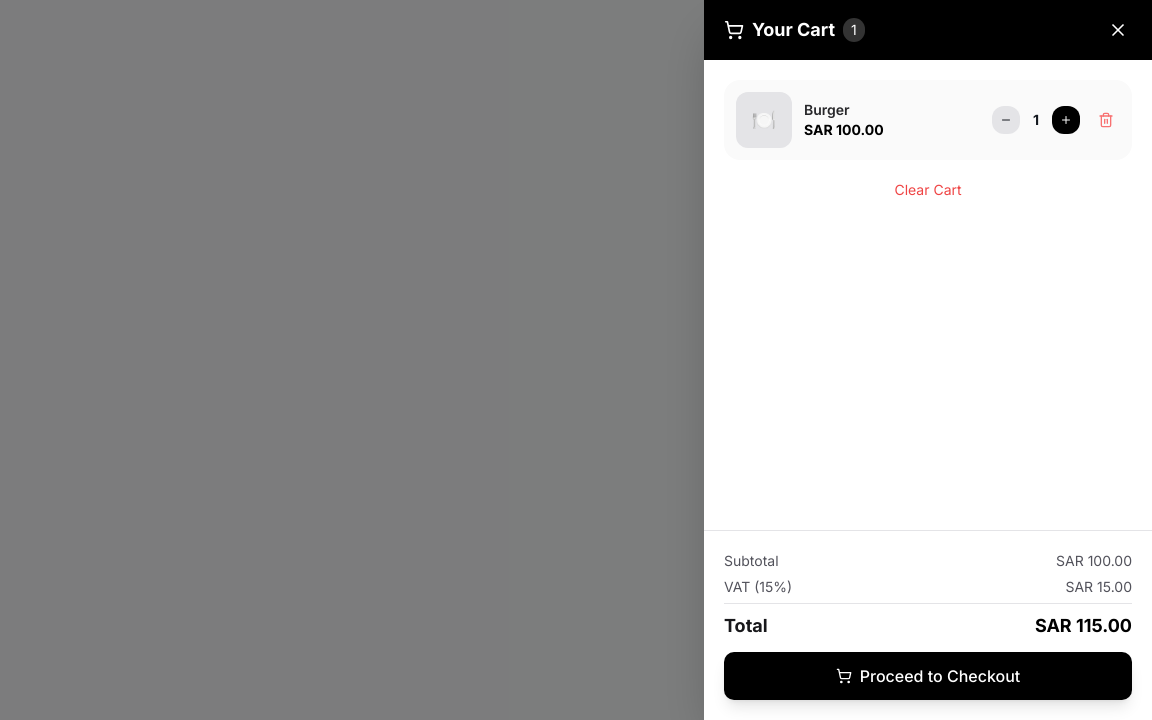
Test: Loyalty Redemption Flow › submits order with redeemed points
Later steps or results of the test are not shown.
Note: Navigate to checkout
Click the button "Proceed to Checkout" at point(928, 676), box [724,652,1132,700]
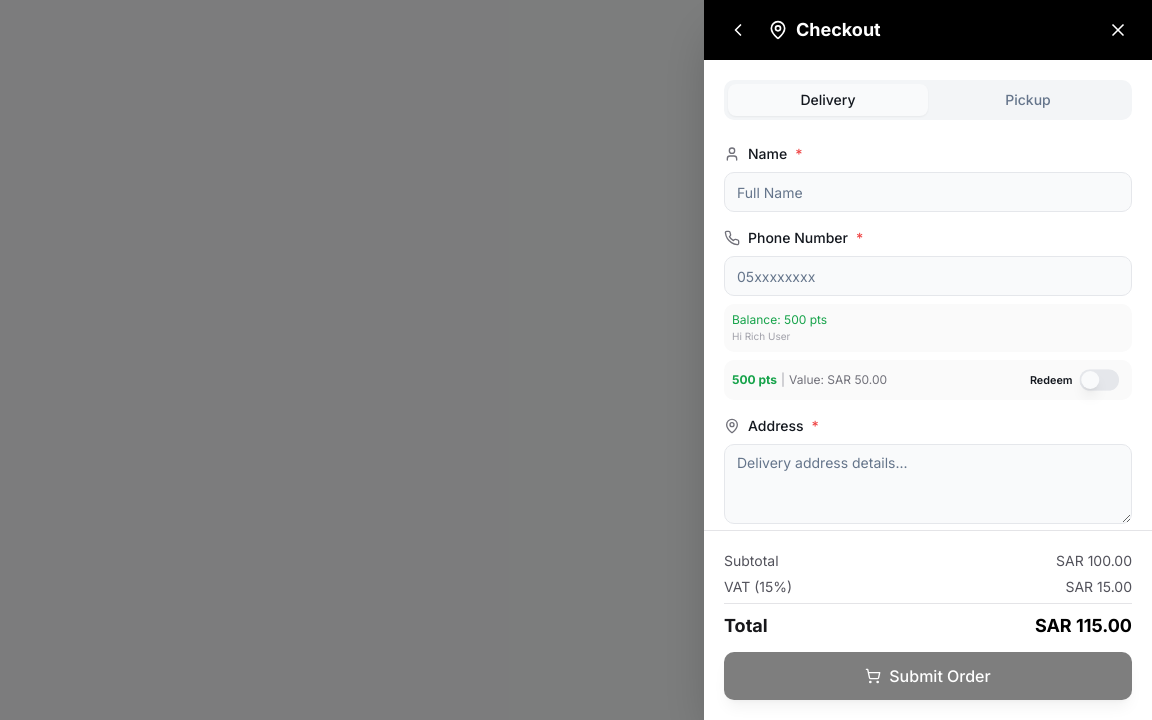
Note: Enter details (required for submit)
Type "John" into the field with placeholder "Full Name" at point(928, 192), box [724,172,1132,212]
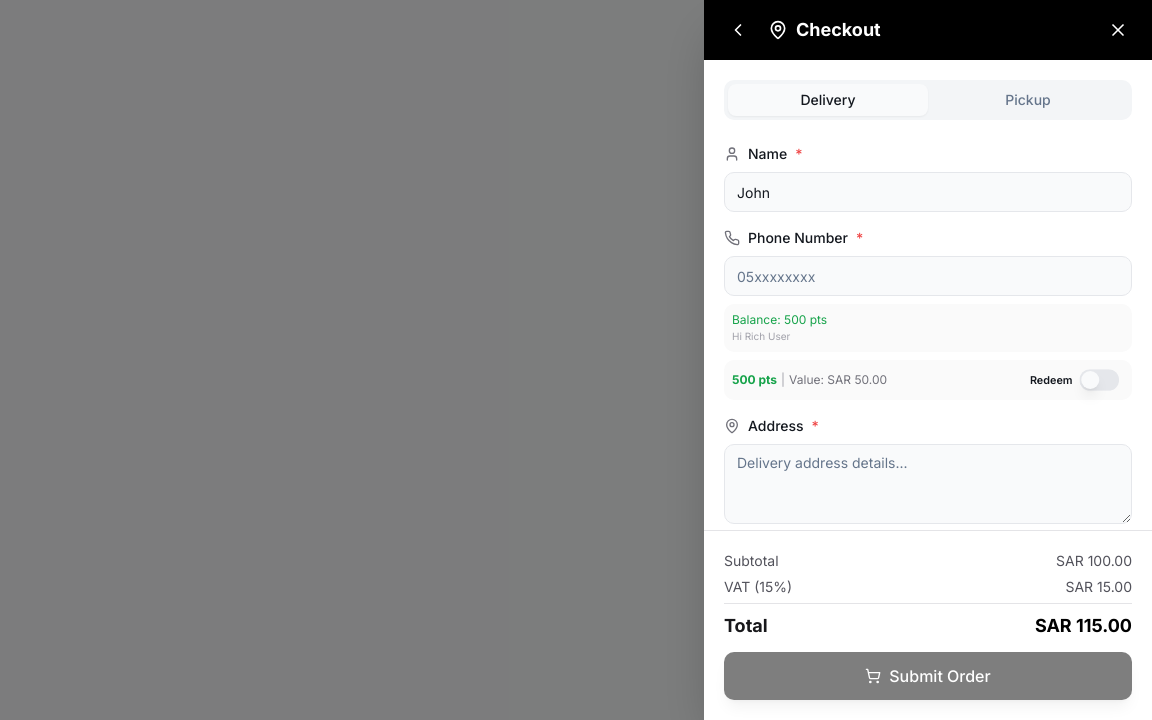
Type "0512345678" into the field with placeholder "05xxxxxxxx" at point(928, 276), box [724,256,1132,296]
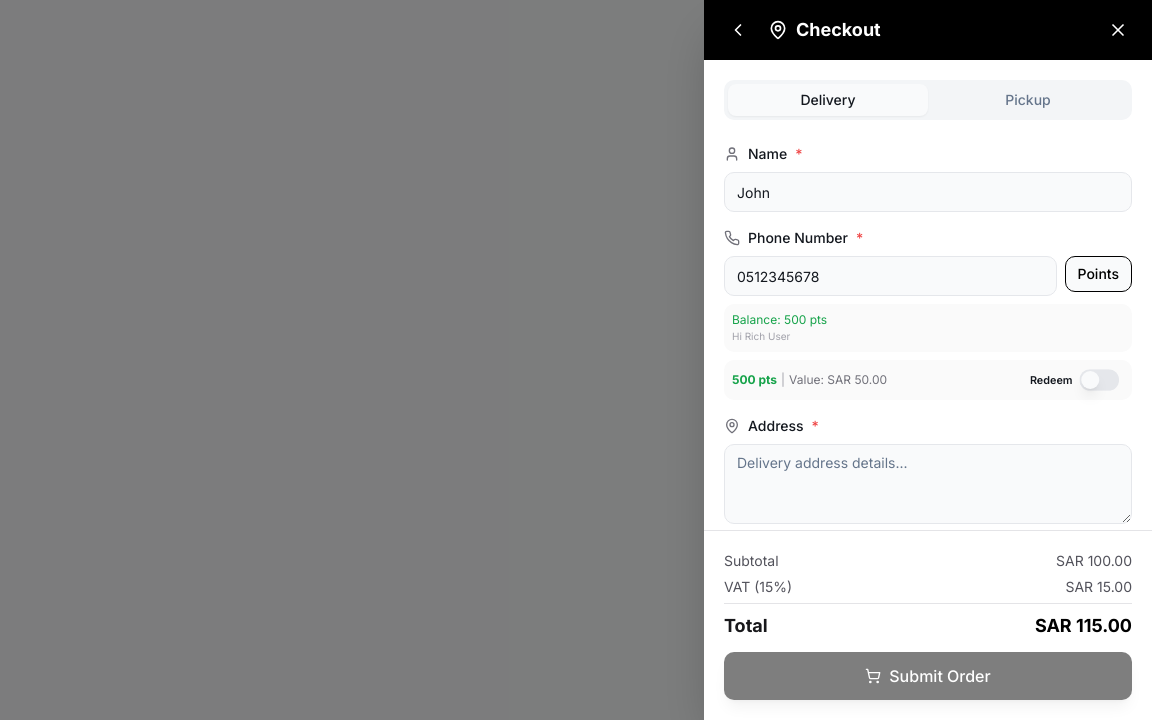
Type "Home" into the text box with placeholder "Delivery address details..." at point(928, 484), box [724,444,1132,524]
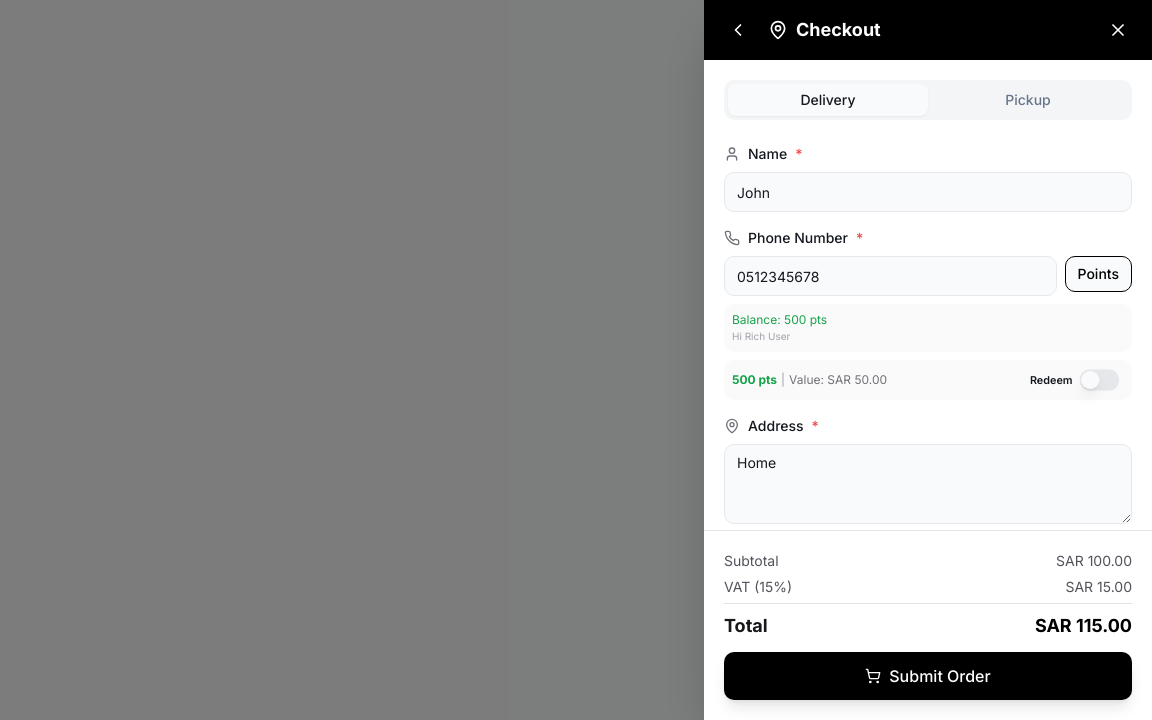
Result: the text "Balance: 500 pts Hi Rich User" is shown at [732,312,827,344]
Note: Enable Redeem
Click the switch at point(1099, 380), box [1079,369,1119,391]
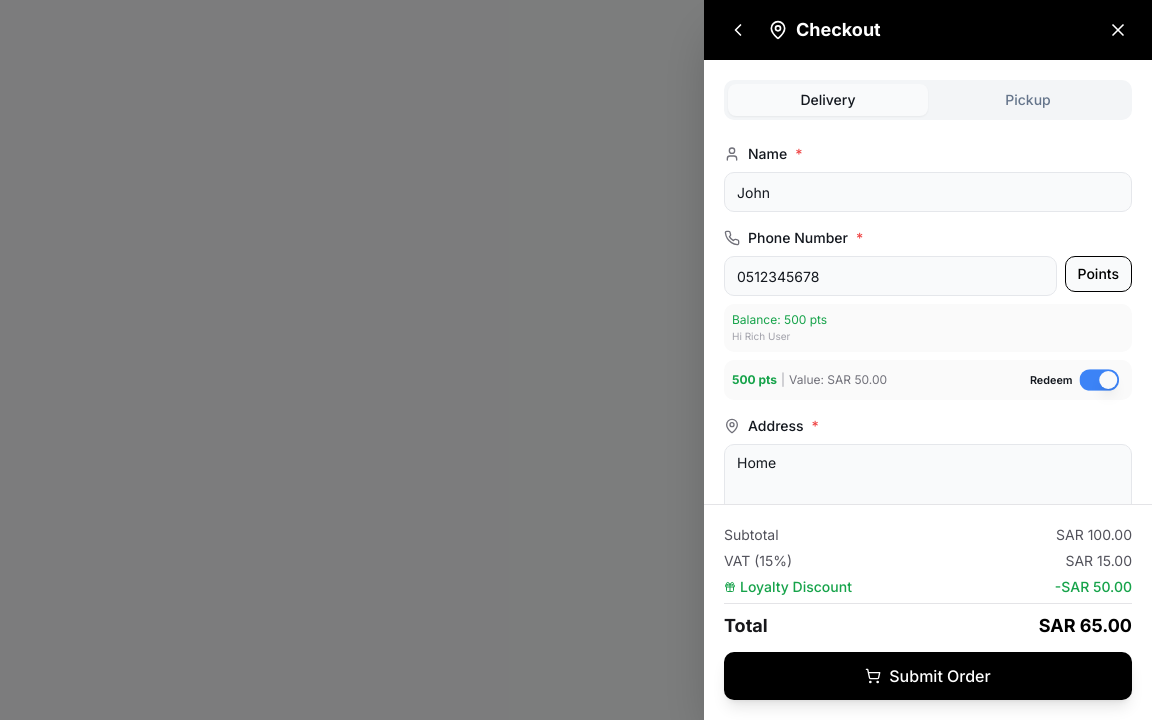
Result: the text "Loyalty Discount" is shown at [724,577,852,597]
Result: the text "-SAR 50.00" is shown at [1055,577,1132,597]
